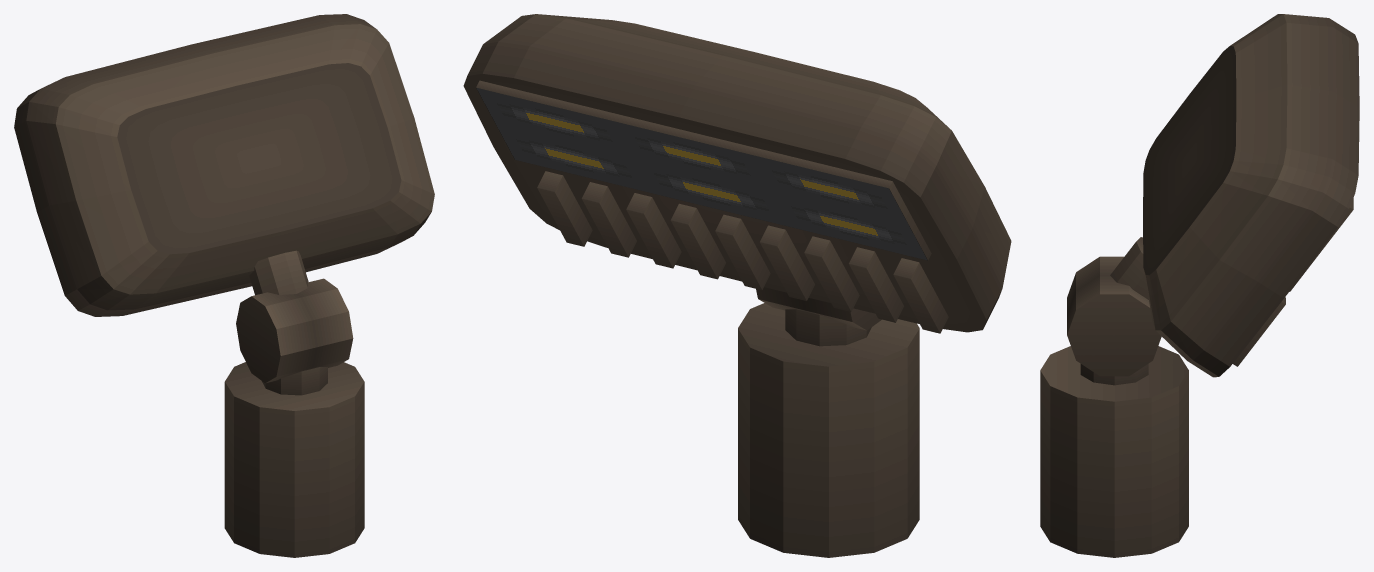
File: floodlight_lithdsxf2sf_g.obj
The picture shows the model from 3 angles, left to right: view 1: azimuth 30°, elevation 25°; view 2: azimuth 150°, elevation 25°; view 3: azimuth 270°, elevation 25°; orthographic projection. The views are drawn at different scales.
Parts seen in each view (by area): view 1: fixture; view 2: fixture; view 3: fixture.
Boxes of the visible parts, x1,y1,x2,y2 form: fixture: (14, 14, 434, 557); fixture: (463, 14, 1011, 557); fixture: (1040, 14, 1359, 557).
Bounding box in the file's own units: 0.4598 × 0.513 × 0.3357.
